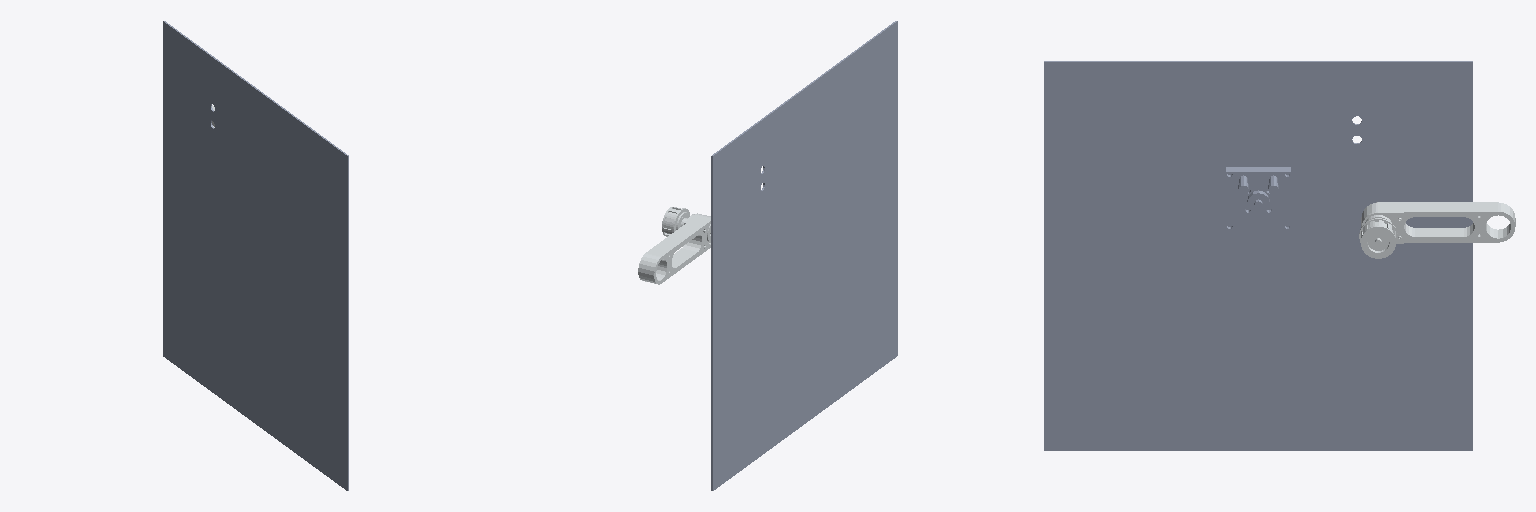
The robot description file, URDF, robot "scara_sw":
<!-- This URDF was automatically created by SolidWorks to URDF Exporter! Originally created by [author] ([email redacted]) 
     Commit Version: 1.6.0-4-g7f85cfe  Build Version: 1.6.7995.38578
     For more information, please see http://wiki.ros.org/sw_urdf_exporter 
     After generation, multiple changes and additions were required as described in the 2R Robot Modeling Technical Report.-->
<robot
  name="scara_sw">

    <!-- 	___________Joints Control in Gazebo___________-->	

  <gazebo>
    <plugin name="gazebo_ros_control" filename="libgazebo_ros_control.so"/>
  </gazebo>
  <!-- Note that material tags supplied by SolidWorks are used in rviz but ignored by Gazebo -->
  <gazebo reference="link_1">
    <material>Gazebo/Turquoise</material>
  </gazebo>
  <gazebo reference="link_2">
    <material>Gazebo/Orange</material>
  </gazebo>

  <!-- Used for fixing robot to Gazebo 'base_link' -->
  <link name="world"/>
  <joint name="world_joint" type="fixed">
	<origin xyz="0 0 1.0" rpy="1.57079632679 -1.57079632679 1.57079632679"/>
    <parent link="world"/>
    <child link="base_link"/>
  </joint>



  <link
    name="base_link">
    <inertial>
       <origin
         xyz="0 0 0"
        rpy="0 0 -1.57079632679" />
      <mass
        value="15.137" />
      <inertia
        ixx="1.1651"
        ixy="0.00079443"
        ixz="-5.3686E-06"
        iyy="1.1282"
        iyz="-0.004763"
        izz="2.2914" />
    </inertial>
    <visual>
      <origin
        xyz="0 0 0"
        rpy="0 0 -1.57079632679" />
      <geometry>
        <mesh
          filename="package://scara_sw/meshes/base_link.STL" />
      </geometry>
      <material
        name="">
        <color
          rgba="0.66667 0.69804 0.76863 1" />
      </material>
    </visual>
    <collision>
      <origin
        xyz="0 0 0"
        rpy="0 0 -1.57079632679" />
      <geometry>
        <mesh
          filename="package://scara_sw/meshes/base_link.STL" />
      </geometry>
    </collision>
  </link>
  <link
    name="link_1">
    <inertial>
      <origin
        xyz="0.066529 0.00 0.179392"
        rpy="0 0 0" />

       <mass
        value="7.084761" />
      <inertia
        ixx="0.147885"
        ixy="0.0000"
        ixz="-0.033179"
        iyy="0.196455"
        iyz="0.0000"
        izz="0.055095" /> 
 <!--  Mass and inertia 10x
      <mass
        value="70.84761" />
      <inertia
        ixx="1.47885"
        ixy="0.0000"
        ixz="-0.33179"
        iyy="1.96455"
        iyz="0.0000"
        izz="0.55095" /> -->
    </inertial>
    <visual>
      <origin
        xyz="0 0 0"
        rpy="0 0 0" />
      <geometry>
        <mesh
          filename="package://scara_sw/meshes/link_1.STL" />
      </geometry>
      <material
        name="">
        <color
          rgba="0.89804 0.91765 0.92941 1" />
      </material>
    </visual>
    <collision>
      <origin
        xyz="0 0 0"
        rpy="0 0 0" />
      <geometry>
        <mesh
          filename="package://scara_sw/meshes/link_1.STL" />
      </geometry>
    </collision>
  </link>
  <joint
    name="joint_1"
    type="revolute">
    <origin
      xyz="0 0 0.049"
      rpy="0 0 -1.57079632679" />
    <parent
      link="base_link" />
    <child
      link="link_1" />
    <axis
      xyz="0 0 1" />
<!-- Velocity limit from motor max 691Rad/s  divided by Nr=15 -->
<!-- Effort limit nominal 2Nm (Abs max=4Nm) from motor spec times Nr=15 
    <limit
      lower="-3.211405854"
      upper="0.0698132"
      effort="30"
      velocity="46.1" /> 
-->
    <limit
      lower="-100"
      upper="100"
      effort="30" 
     velocity="100" /> 
 <!--    Very large friction
	<dynamics
      damping="8.0"
      friction="2.5" />
-->
    <dynamics
      damping="1.5"
      friction="0.25" />
  </joint>
   <!-- Required for ROS control -->
   
    <transmission name="joint_1_transmission">
      <type>transmission_interface/SimpleTransmission</type>
      <joint name="joint_1">
        <hardwareInterface>hardware_interface/EffortJointInterface</hardwareInterface>
        <mechanicalReduction>15</mechanicalReduction>
      </joint>
      <actuator name="joint_1_actuator"/>
    </transmission>
  
  <link
    name="link_2">
    <inertial>
      <origin
        xyz="0.082451 0.0 0.045927"
        rpy="0 0 0" />
 <!--    Mass and inertia 10x
	<mass
        value="31.81291" /> -->

<!--       <inertia
        ixx="0.13725"
        ixy="0.00"
        ixz="0.06881"
        iyy="0.67471"
        iyz="0.00"
        izz="0.57501" /> -->
   
     <mass
        value="3.181291" />
     <inertia
        ixx="0.013725"
        ixy="0.00"
        ixz="0.006881"
        iyy="0.067471"
        iyz="0.00"
        izz="0.057501" /> 
    </inertial>
    <visual>
      <origin
        xyz="0 0 0"
        rpy="0 0 0" />
      <geometry>
        <mesh
          filename="package://scara_sw/meshes/link_2.STL" />
      </geometry>
      <material
        name="">
        <color
          rgba="0.89804 0.91765 0.92941 1" />
      </material>
    </visual>
    <collision>
      <origin
        xyz="0 0 0"
        rpy="0 0 0" />
      <geometry>
        <mesh
          filename="package://scara_sw/meshes/link_2.STL" />
      </geometry>
    </collision>
  </link>
  <joint
    name="joint_2"
    type="revolute">
  <!--  l1 longer by 20cm
	 <origin
      xyz="0.48002 0.0 0.071"
      rpy="0 0 0" /> -->
   <origin
      xyz="0.28002 0.0 0.071"
      rpy="0 0 0" /> 
    <parent
      link="link_1" />
    <child
      link="link_2" />
    <axis
      xyz="0 0 1" />
<!-- Velocity limit from motor max 691Rad/s  divided by Nr=15 -->
<!-- Effort limit nominal 2Nm (Abs max=4) from motor spec times Nr=15 
    <limit
      lower="-2.7925"
      upper="2.7925"
      effort="30" 
     velocity="46.1" /> 
-->
    <limit
      lower="-100"
      upper="100"
      effort="30" 
     velocity="100" /> 
    <dynamics
      damping="1.1"
      friction="0.35" />
<!--   Very large friction
    <dynamics
      damping="5.0"
      friction="1.5" />
-->
  </joint>
    <transmission name="joint_2_transmission">
      <type>transmission_interface/SimpleTransmission</type>
      <joint name="joint_2">
        <hardwareInterface>hardware_interface/EffortJointInterface</hardwareInterface>
        <mechanicalReduction>15</mechanicalReduction>
      </joint>
      <actuator name="joint_2_actuator"/>
    </transmission>
</robot>

--- Facts derived from the render (not from the file) ---
Views: 3 orthographic renders of the robot side by side, from view 1: azimuth 30°, elevation 25°; view 2: azimuth 150°, elevation 25°; view 3: azimuth 270°, elevation 25°.
Robot: scara_sw — 4 links, 3 joints (2 revolute, 1 fixed); root link world; default pose: all joints at 0.
Links seen in each view (by area): view 1: base_link; view 2: base_link, link_2; view 3: base_link, link_2.
Boxes of the visible links, x1,y1,x2,y2 form: base_link: (163,21,348,490); base_link: (711,21,897,490); link_2: (638,207,710,284); base_link: (1044,61,1472,450); link_2: (1359,202,1515,258).
Bounding box of the posed robot: 0.2628 × 1.1 × 1 m (x, y, z).
Meshes: 3 distinct files referenced, 2 mesh visuals loaded (2 binary STL); not drawn: 1 (reference not matched to a file when rendering).